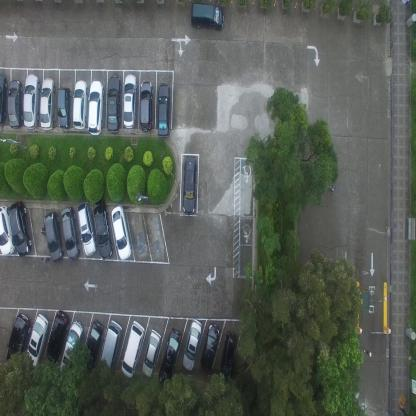car: (120, 319, 146, 378), (58, 318, 84, 376), (158, 326, 183, 386), (92, 196, 114, 260), (5, 312, 31, 366), (46, 308, 70, 365), (9, 201, 32, 258), (110, 202, 132, 261), (99, 319, 123, 373), (25, 313, 48, 368), (60, 204, 80, 262), (182, 317, 203, 372), (77, 200, 97, 256), (42, 211, 63, 263), (83, 320, 104, 371), (141, 328, 162, 378), (199, 323, 220, 373), (190, 3, 225, 32), (220, 329, 238, 384), (23, 72, 40, 130), (182, 156, 198, 217), (88, 78, 104, 136), (6, 78, 23, 130), (40, 76, 56, 131), (122, 72, 137, 129), (107, 73, 121, 133), (72, 78, 88, 130), (0, 204, 15, 257), (156, 81, 170, 137), (139, 81, 153, 132), (57, 84, 71, 130), (0, 73, 8, 126)
